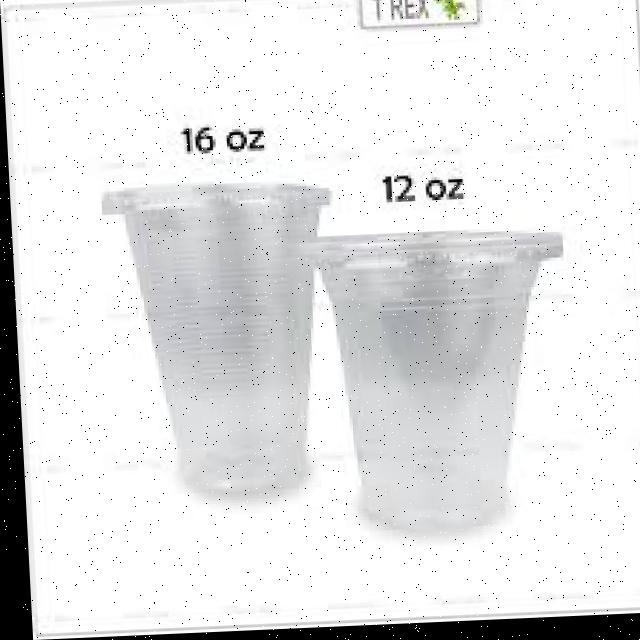cup: (300, 189, 585, 571), (88, 160, 354, 522)
